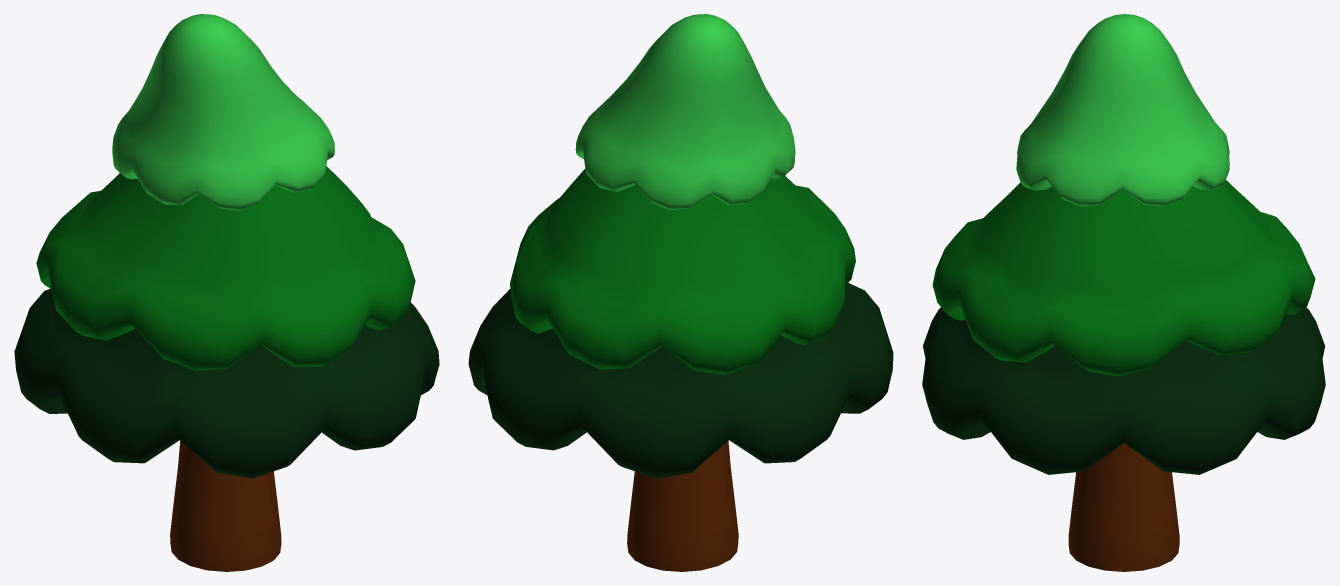
File: Sapin_04_new.fbx
3 views of the same model, side by side, from view 1: azimuth 30°, elevation 25°; view 2: azimuth 150°, elevation 25°; view 3: azimuth 270°, elevation 25° (orthographic). The views are drawn at different scales.
Parts seen in each view (by area): view 1: Feuilles_Milieu_low001, Feuilles_Bas_low001, Feuilles_Haut_low001, Tronc_low006; view 2: Feuilles_Milieu_low001, Feuilles_Bas_low001, Feuilles_Haut_low001, Tronc_low006; view 3: Feuilles_Milieu_low001, Feuilles_Bas_low001, Feuilles_Haut_low001, Tronc_low006.
Part boxes in pixels (x1,y1,x2,y2): Feuilles_Milieu_low001: (36, 166, 415, 370); Feuilles_Bas_low001: (14, 288, 439, 478); Feuilles_Haut_low001: (112, 14, 334, 210); Tronc_low006: (170, 441, 281, 571); Feuilles_Milieu_low001: (510, 169, 855, 374); Feuilles_Bas_low001: (468, 283, 893, 478); Feuilles_Haut_low001: (575, 14, 795, 209); Tronc_low006: (627, 441, 738, 571); Feuilles_Milieu_low001: (932, 180, 1315, 376); Feuilles_Bas_low001: (922, 307, 1325, 474); Feuilles_Haut_low001: (1016, 14, 1229, 206); Tronc_low006: (1068, 443, 1179, 571).
Bounding box in the file's own units: 84.54 × 124 × 86.77.
